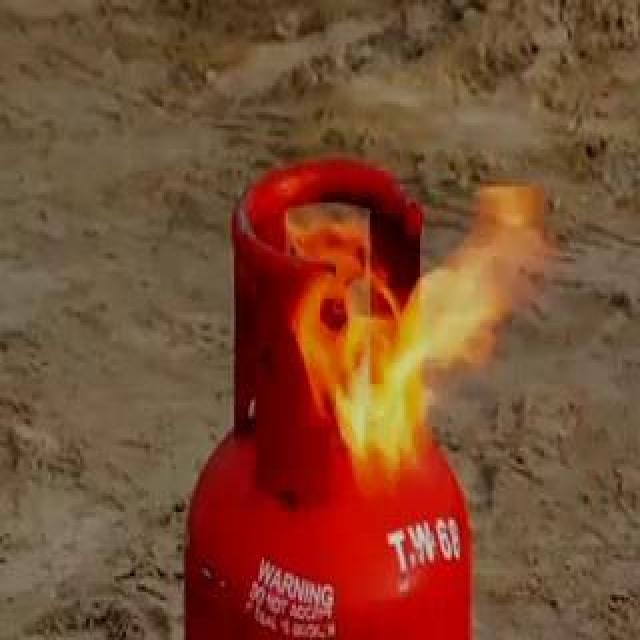Fire: (263, 141, 635, 520)
